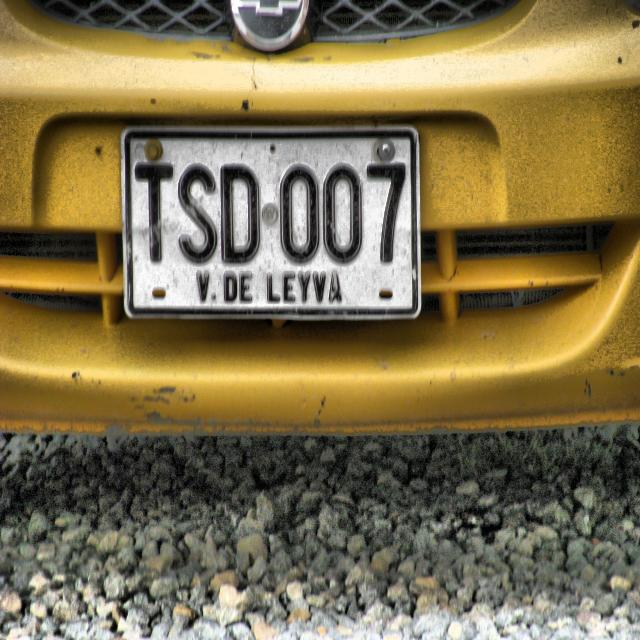plate: (120, 122, 423, 323)
